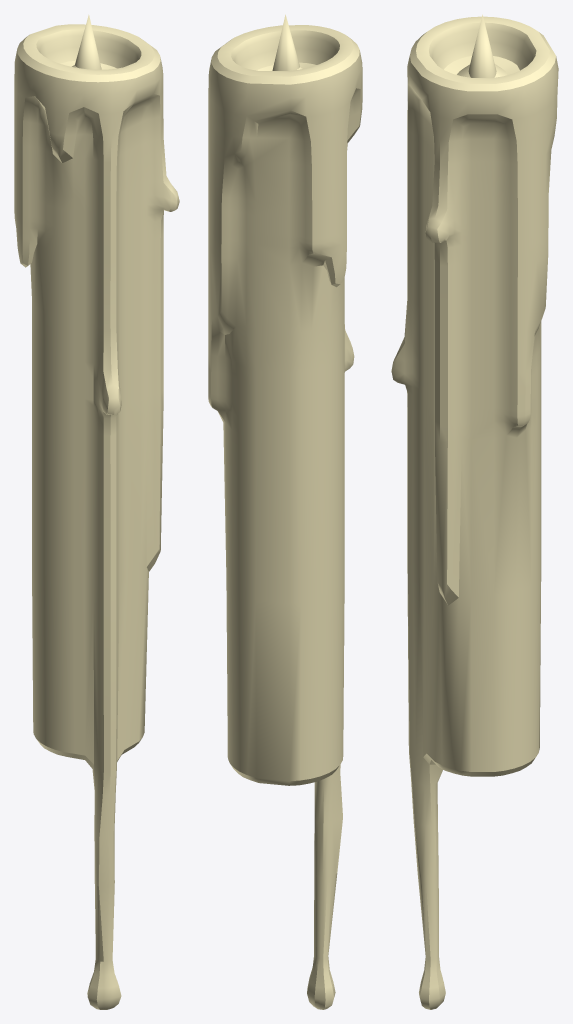
File: Floating candle Anim.fbx
The picture shows the model from 3 angles, left to right: view 1: azimuth 30°, elevation 25°; view 2: azimuth 150°, elevation 25°; view 3: azimuth 270°, elevation 25°; orthographic projection. The views are drawn at different scales.
Parts seen in each view (by area): view 1: floaty candle; view 2: floaty candle; view 3: floaty candle.
Part boxes in pixels (x1,y1,x2,y2): floaty candle: (14,14,179,1009); floaty candle: (208,14,362,1009); floaty candle: (391,14,558,1009).
Size of the model in its own units: 7.98 by 56.41 by 8.56.
